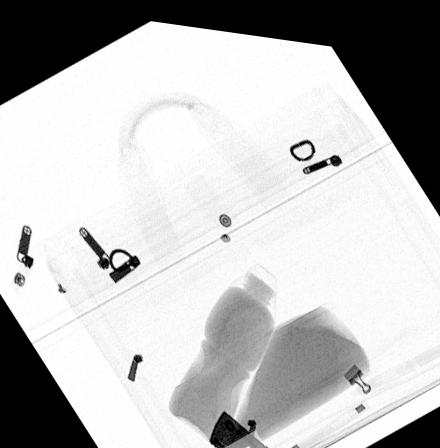Lighter: (208, 402, 274, 448)
